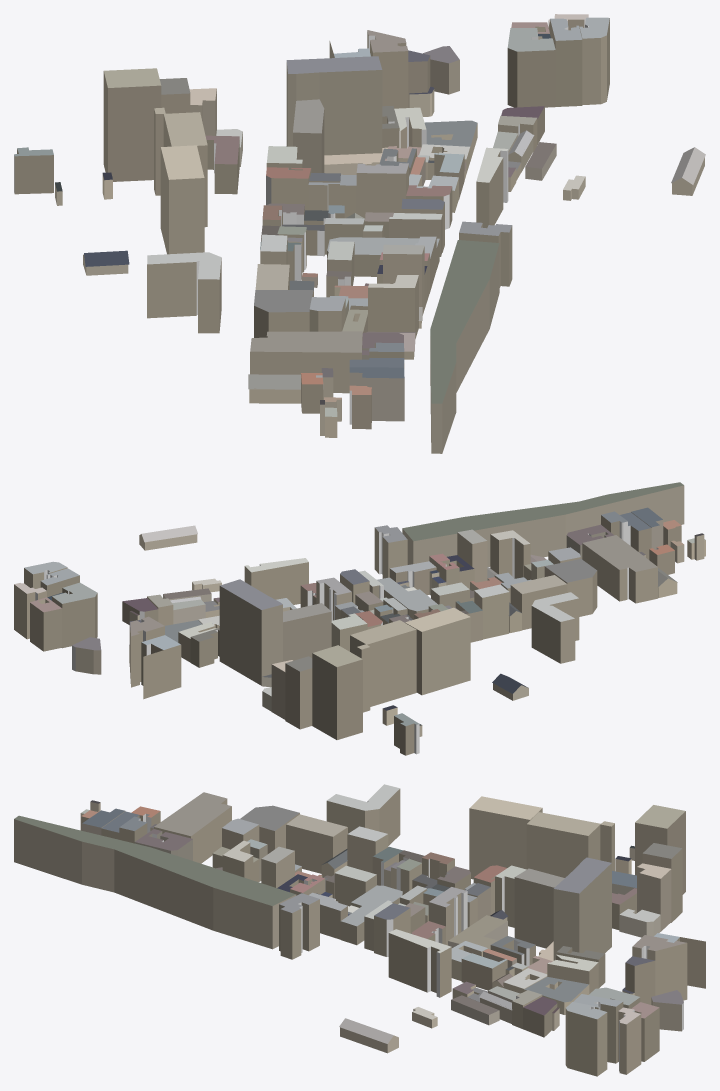
3 views of the same model, one above another, from view 1: azimuth 30°, elevation 25°; view 2: azimuth 150°, elevation 25°; view 3: azimuth 270°, elevation 25° (orthographic). The views are drawn at different scales.
Parts seen in each view (by area): view 1: tuile; view 2: tuile; view 3: tuile.
Boxes of the visible parts, x1,y1,x2,y2 form: tuile: (14, 14, 705, 453); tuile: (14, 482, 705, 755); tuile: (14, 784, 705, 1076).
Bounding box in the file's own units: 258 × 41.81 × 299.
